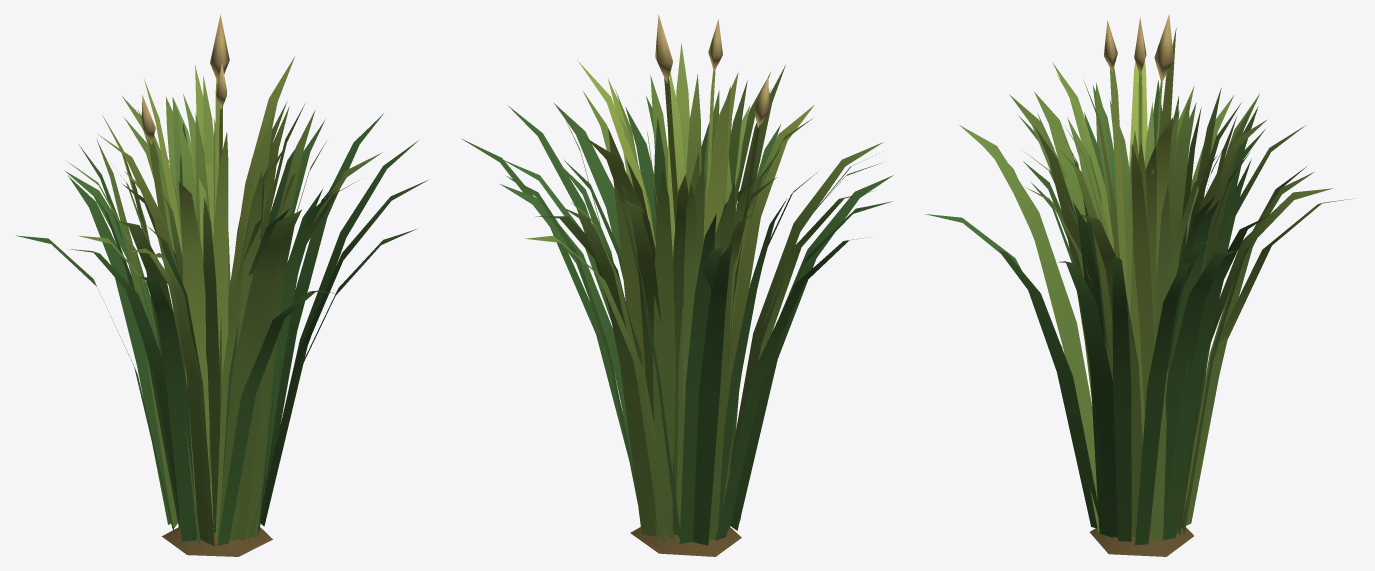
The model's file is tall_grass_3.glb.
The picture shows the model from 3 angles, left to right: view 1: azimuth 30°, elevation 25°; view 2: azimuth 150°, elevation 25°; view 3: azimuth 270°, elevation 25°; orthographic projection. The views are drawn at different scales.
Parts seen in each view (by area): view 1: tall_grass_3; view 2: tall_grass_3; view 3: tall_grass_3.
Boxes of the visible parts, box(x1,y1,x2,y2) form: tall_grass_3: box(16, 14, 427, 556); tall_grass_3: box(462, 15, 893, 556); tall_grass_3: box(925, 14, 1352, 556).
Bounding box in the file's own units: 0.8 × 1 × 0.75.
2 materials, 2 textured.
